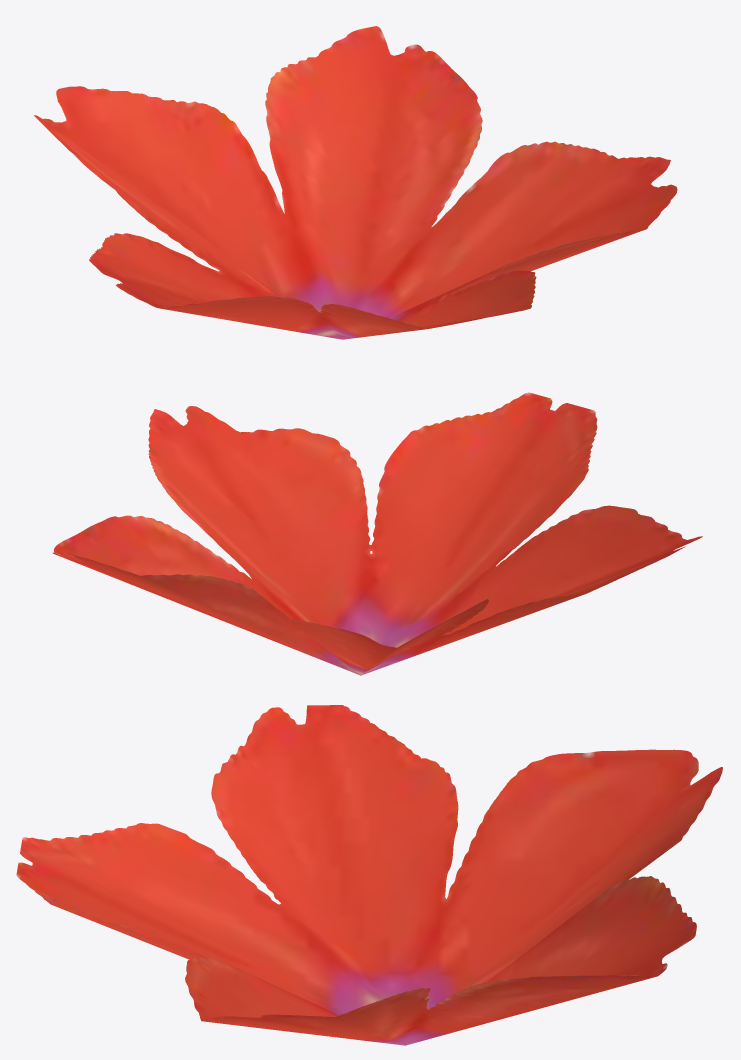
File: sn_petal_3.glb
The picture shows the model from 3 angles, top to bottom: view 1: azimuth 30°, elevation 25°; view 2: azimuth 150°, elevation 25°; view 3: azimuth 270°, elevation 25°; orthographic projection. The views are drawn at different scales.
Visible parts, largest first — view 1: Petal_3; view 2: Petal_3; view 3: Petal_3.
Part boxes in pixels (x1,y1,x2,y2): Petal_3: (34,26,677,339); Petal_3: (52,392,702,675); Petal_3: (16,705,722,1045).
Bounding box in the file's own units: 0.6195 × 0.1895 × 0.6064.
1 material, 1 textured.
